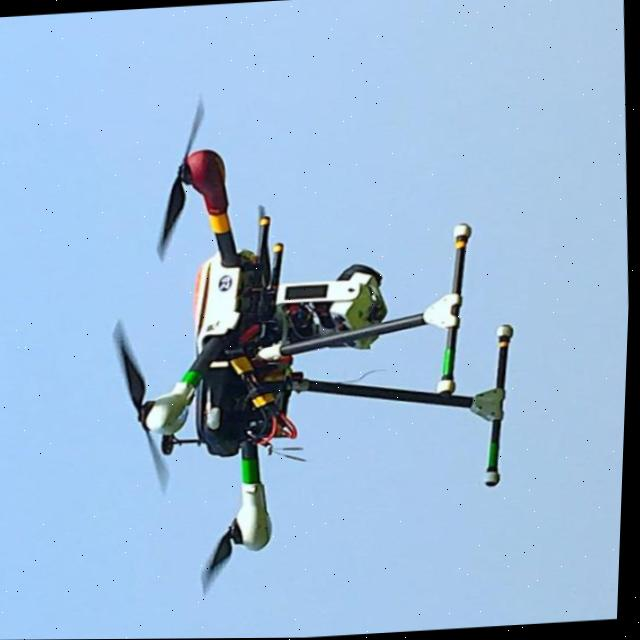drones: (53, 82, 572, 603)
